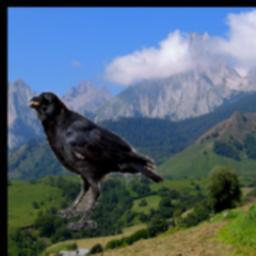Crow: (27, 89, 163, 230)
